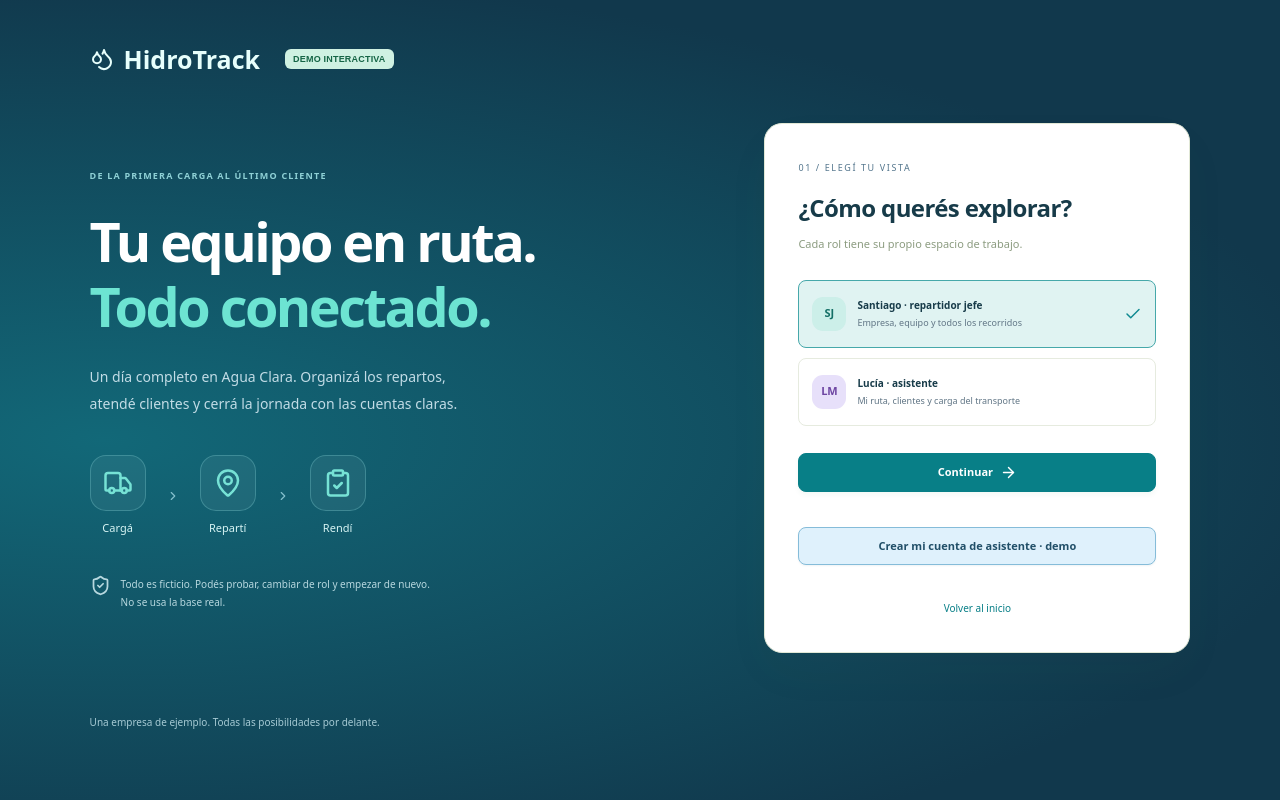
Test: recorridos navegables de la demo › muestra juntos los clientes de una calle desde el filtro explicito
This screenshot has width=1280, height=800.
Click the button "Continuar". click: (977, 472)
box: [798,453,1156,492]
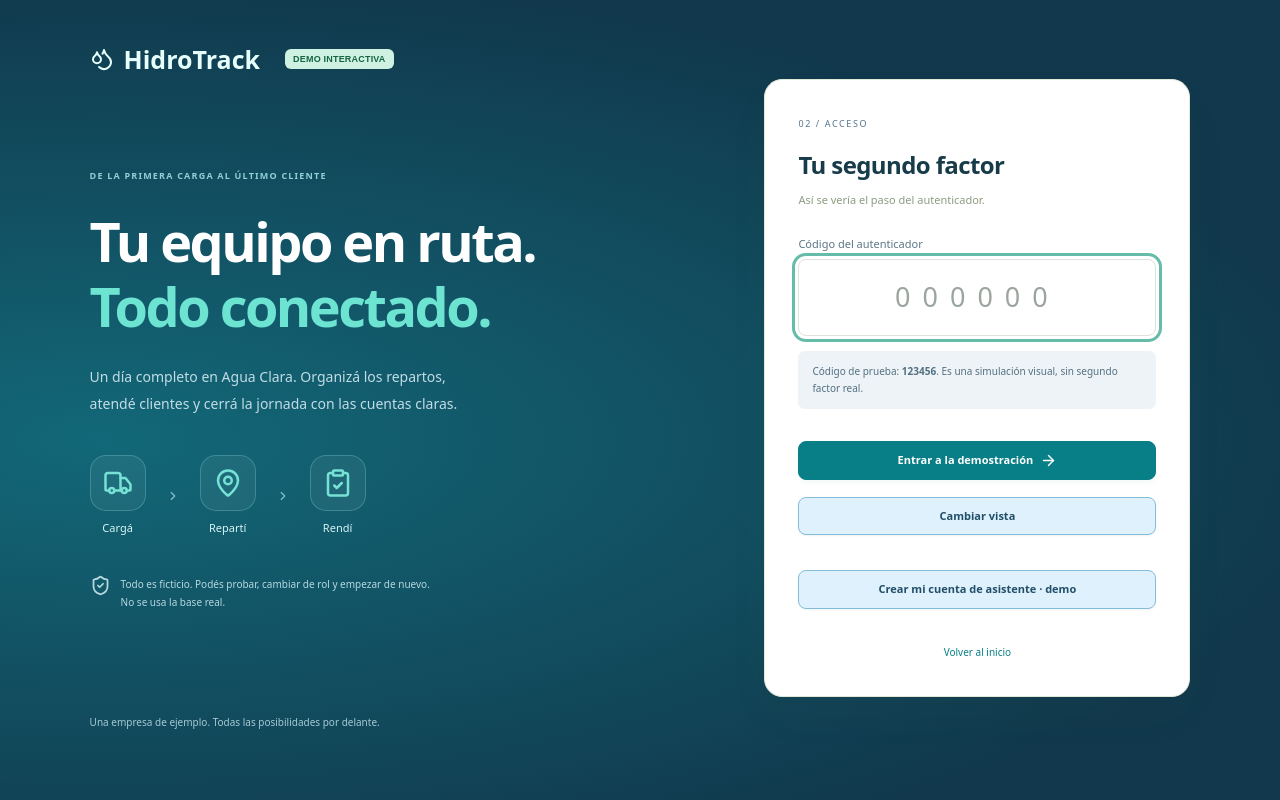
Type "123456" into the field labelled "Código del autenticador". click: (977, 298)
box: [798,260,1156,336]
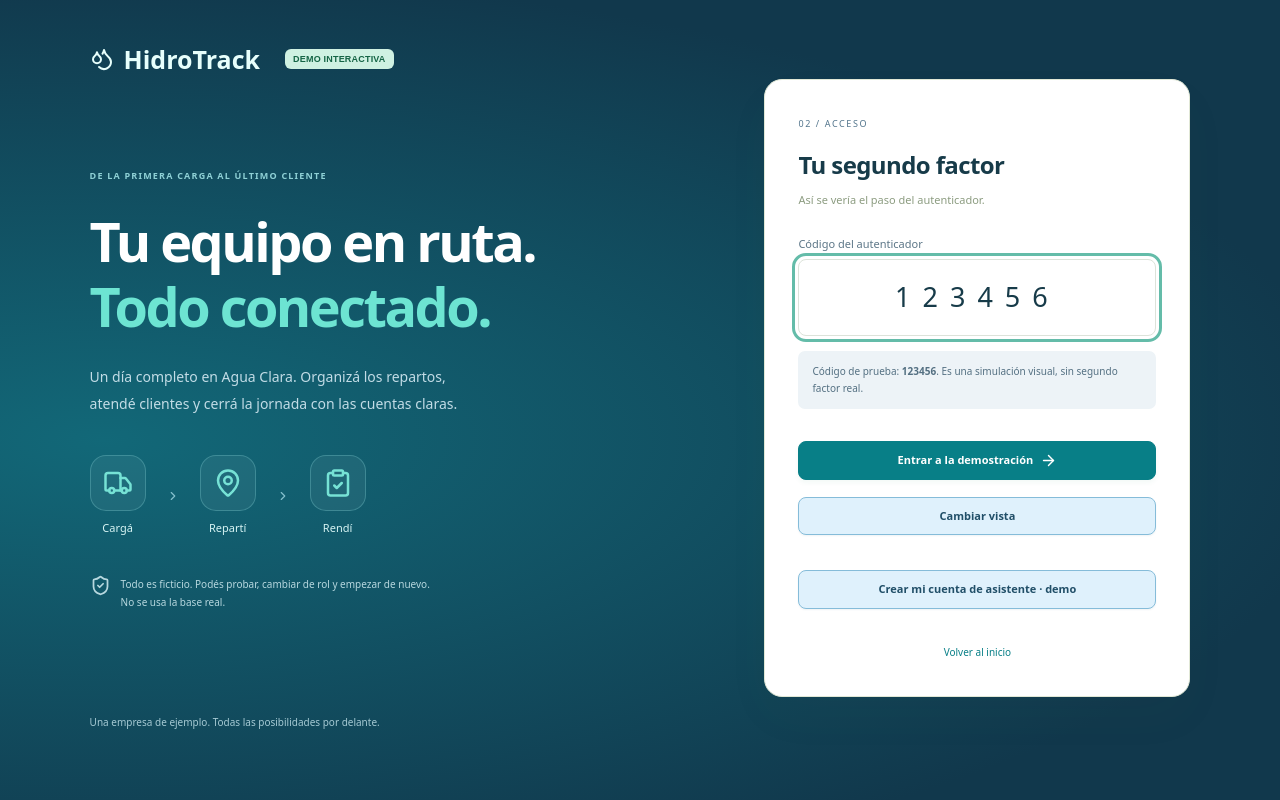
Click the button "Entrar a la demostración". click: (977, 460)
box: [798,441,1156,480]
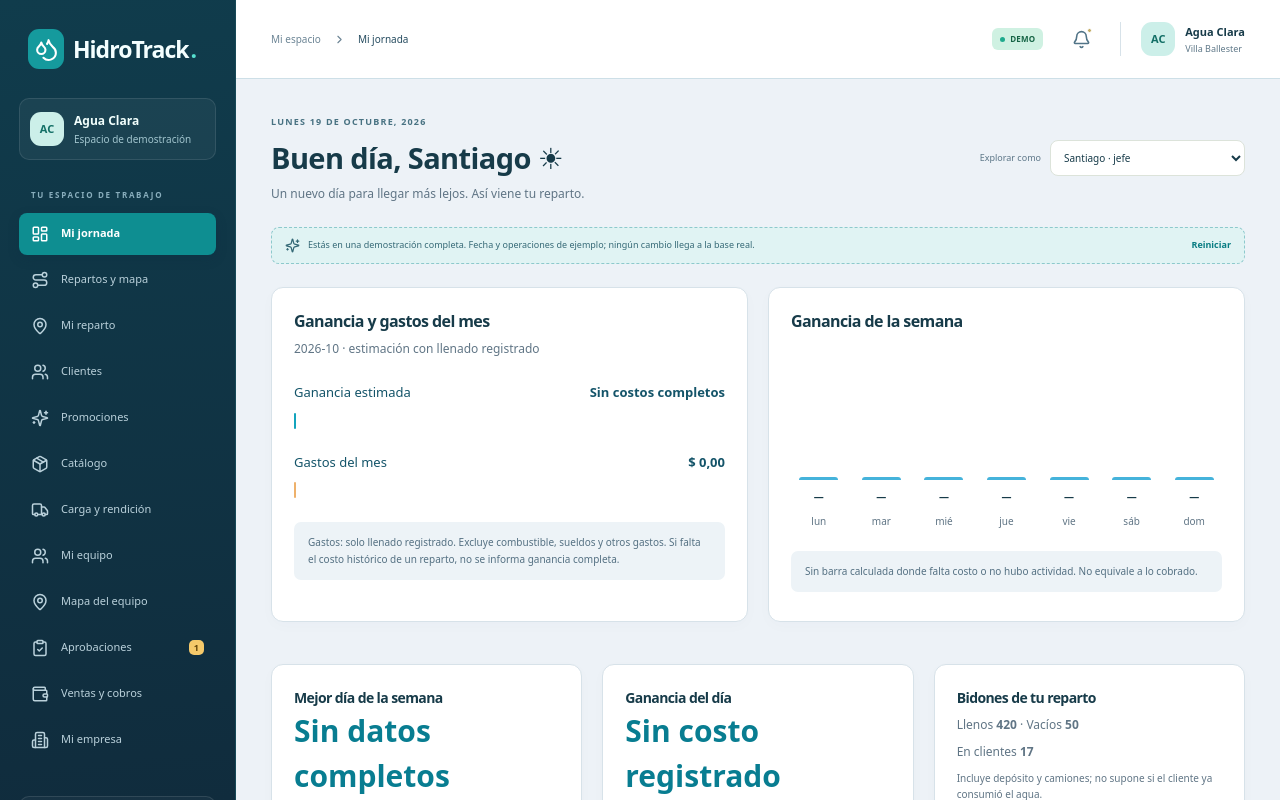
Click the button "Clientes". click: (118, 372)
box: [19,350,216,392]
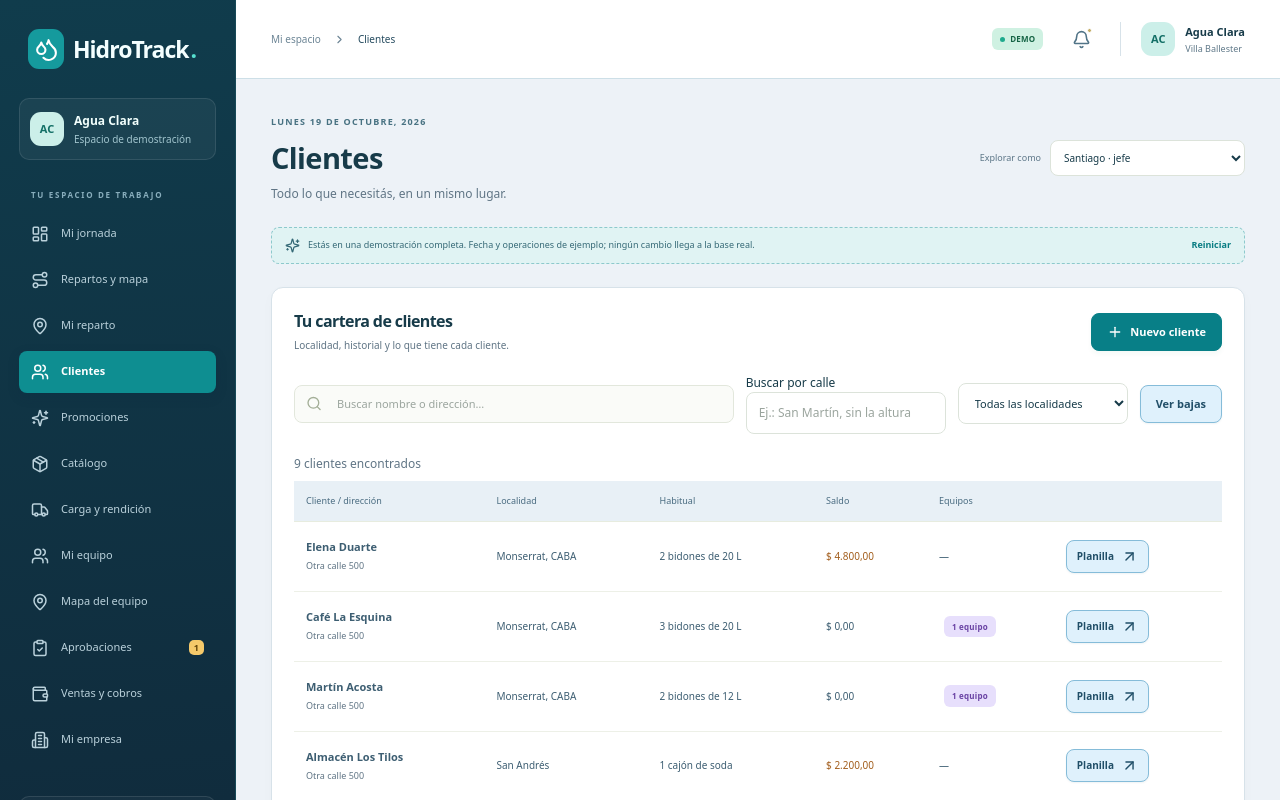
Type "san martin" into the search field labelled "Buscar por calle". click: (846, 413)
box: [746,392,946,434]
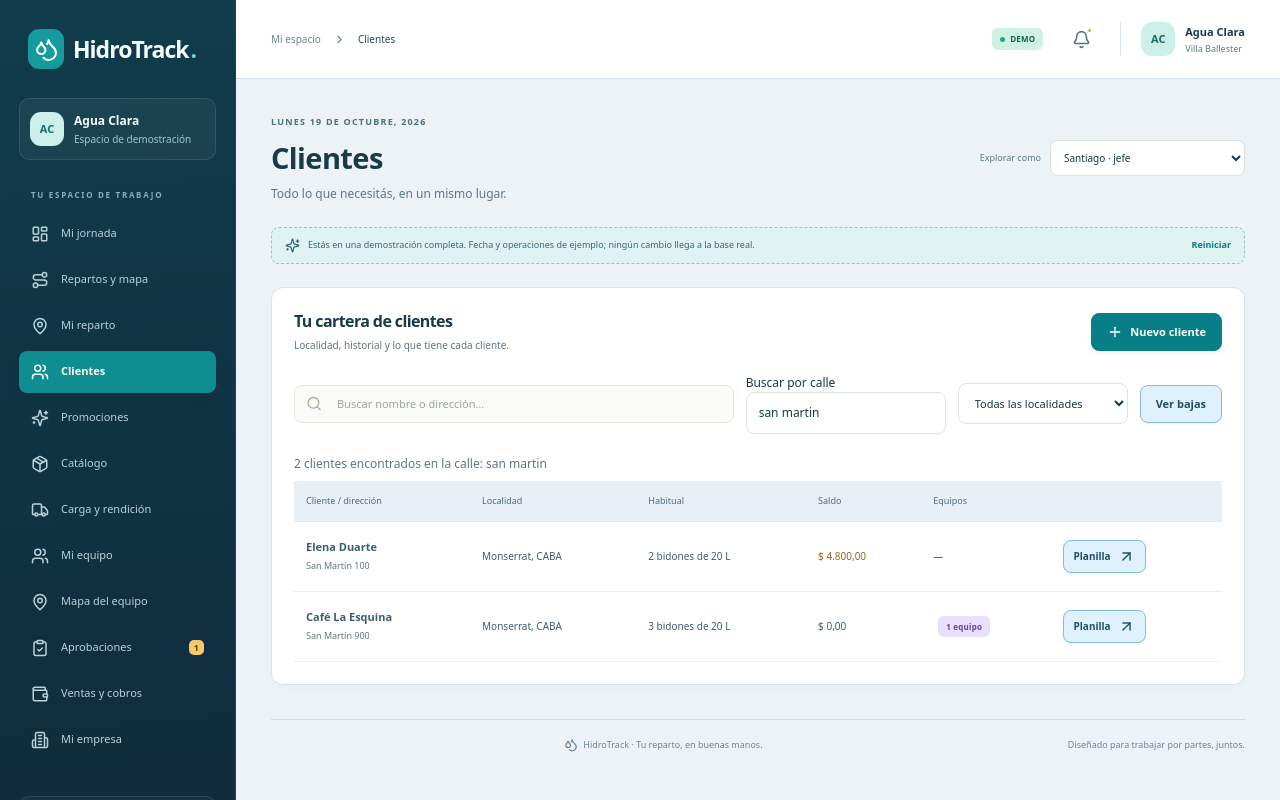
Expected: the text "San Martín 100" is shown, [306,559,370,572]
Expected: the text "San Martín 900" is shown, [306,629,370,642]
Expected: the message reads "2 clientes encontrados en la calle: san martin", [294,455,547,472]
